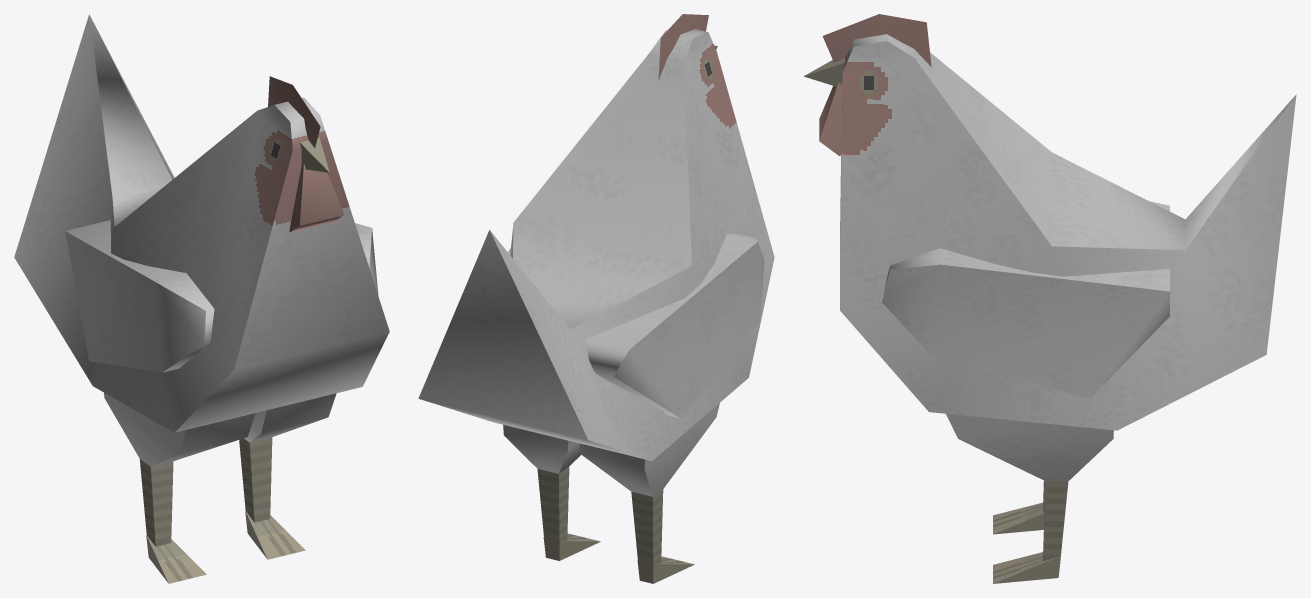
File: 0208_Chicken.glb
The picture shows the model from 3 angles, left to right: view 1: azimuth 30°, elevation 25°; view 2: azimuth 150°, elevation 25°; view 3: azimuth 270°, elevation 25°; orthographic projection. The views are drawn at different scales.
Parts seen in each view (by area): view 1: part_0; view 2: part_0; view 3: part_0.
Part boxes in pixels (x1,y1,x2,y2): part_0: (14, 14, 389, 583); part_0: (418, 14, 774, 583); part_0: (804, 14, 1296, 583).
Size of the model in its own units: 0.2305 by 0.528 by 0.4406.
Materials: 1 (1 with a texture image).
